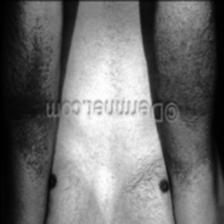Non-Cancerous Skin Condition: (168, 14, 210, 170), (12, 17, 50, 166)
